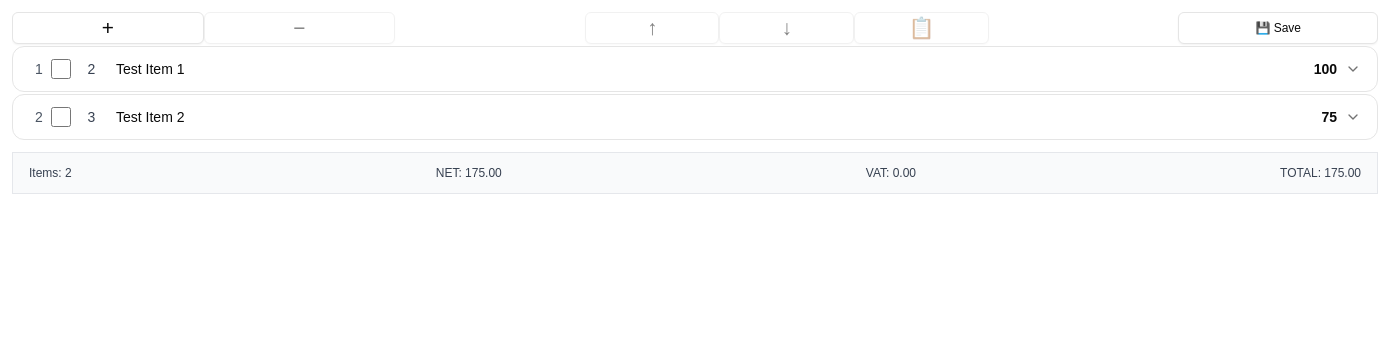
Test: SimpleEditableTable - Add Row Functionality › should add multiple rows sequentially
The width and height of the screenshot is (1390, 355).
// Add first row
Click the button named "Add new row": (108, 28) [12,12,204,44]
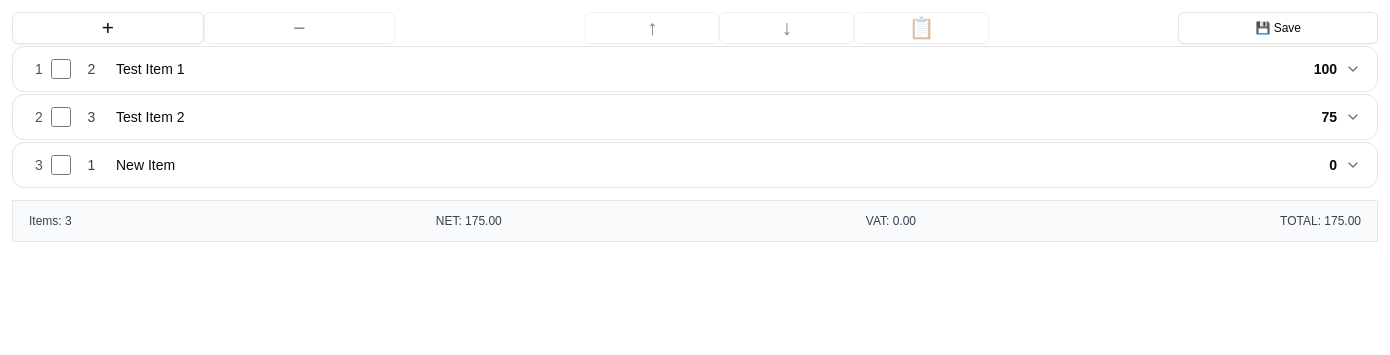
Expected: the text "New Item" is shown once, [116,157,175,173]
// Add second row
Click the button named "Add new row": (108, 28) [12,12,204,44]
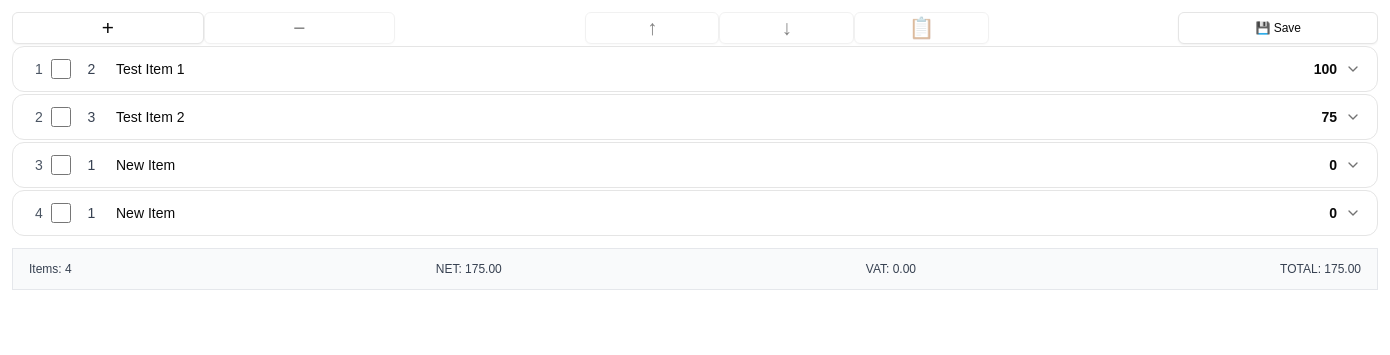
Expected: the text "New Item" is shown 2 times, [116,157,175,173]; [116,205,175,221]
// Add third row
Click the button named "Add new row": (108, 28) [12,12,204,44]
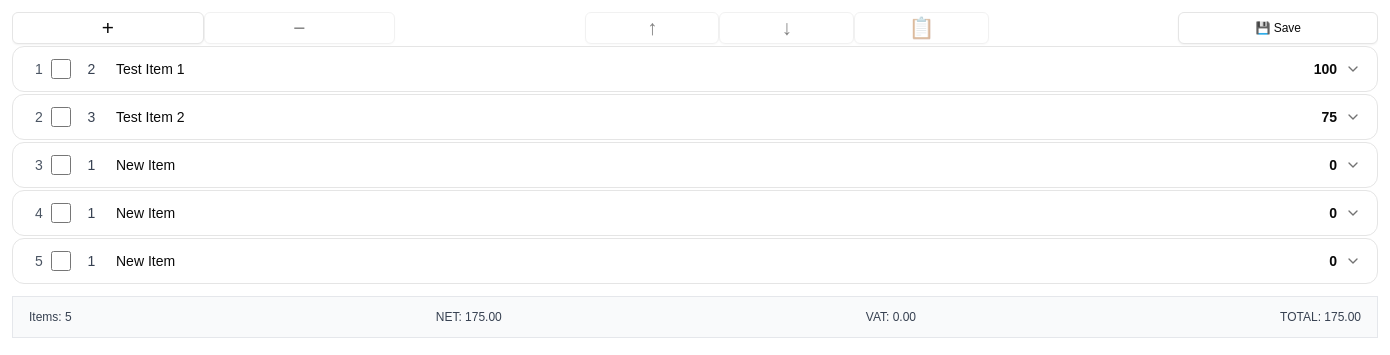
Expected: the text "New Item" is shown 3 times, [116,157,175,173]; [116,205,175,221]; [116,253,175,269]
